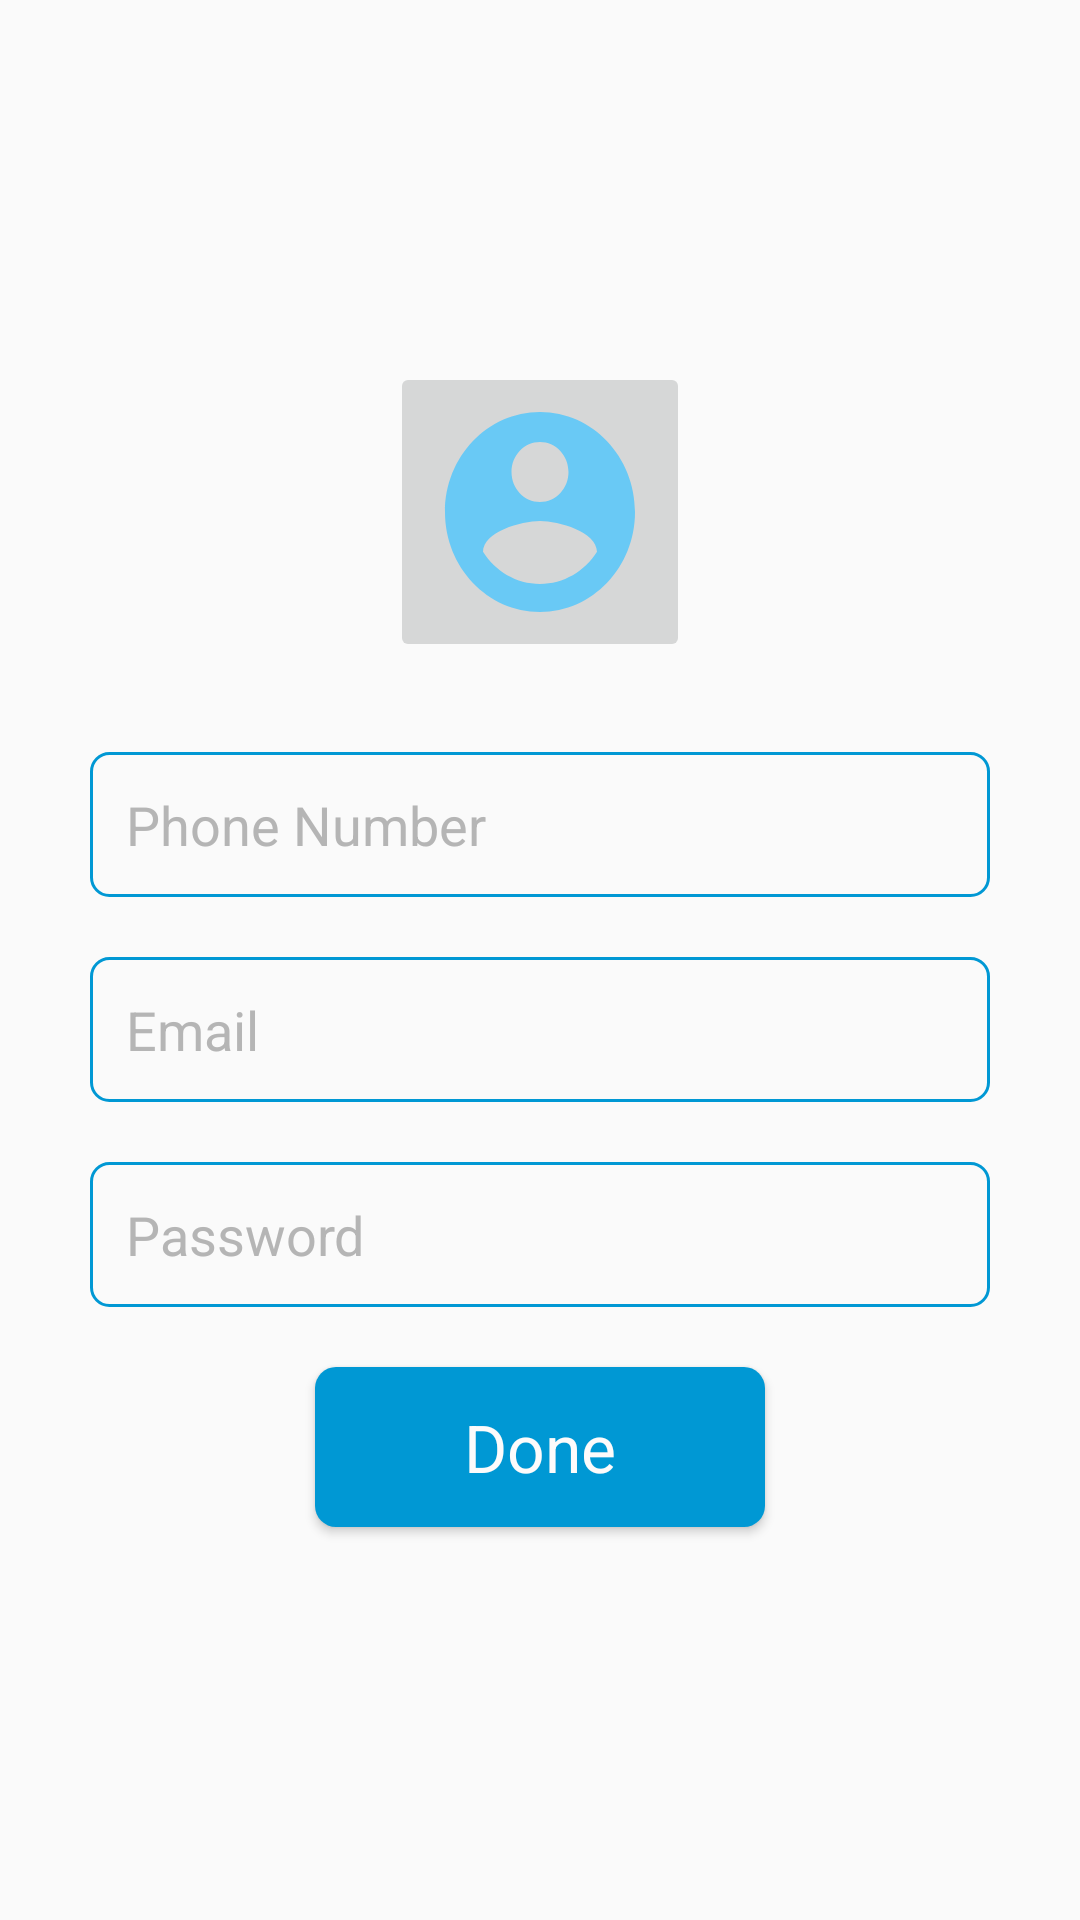

Icons on this 1080 × 1920 Android screen, each with its box as [x1,y1,x2,y2]:
account: [402,380,678,644]
